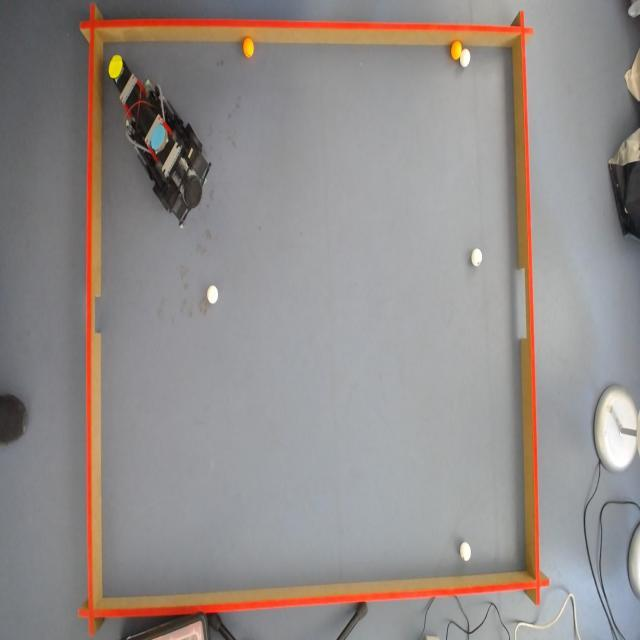orange: (448, 41, 464, 66), (242, 38, 254, 60)
robot: (106, 51, 206, 218)
robot-front: (108, 54, 124, 80)
robot-rear: (149, 122, 167, 152)
white: (458, 49, 472, 66), (207, 285, 218, 305), (472, 246, 483, 266), (461, 542, 472, 562)
